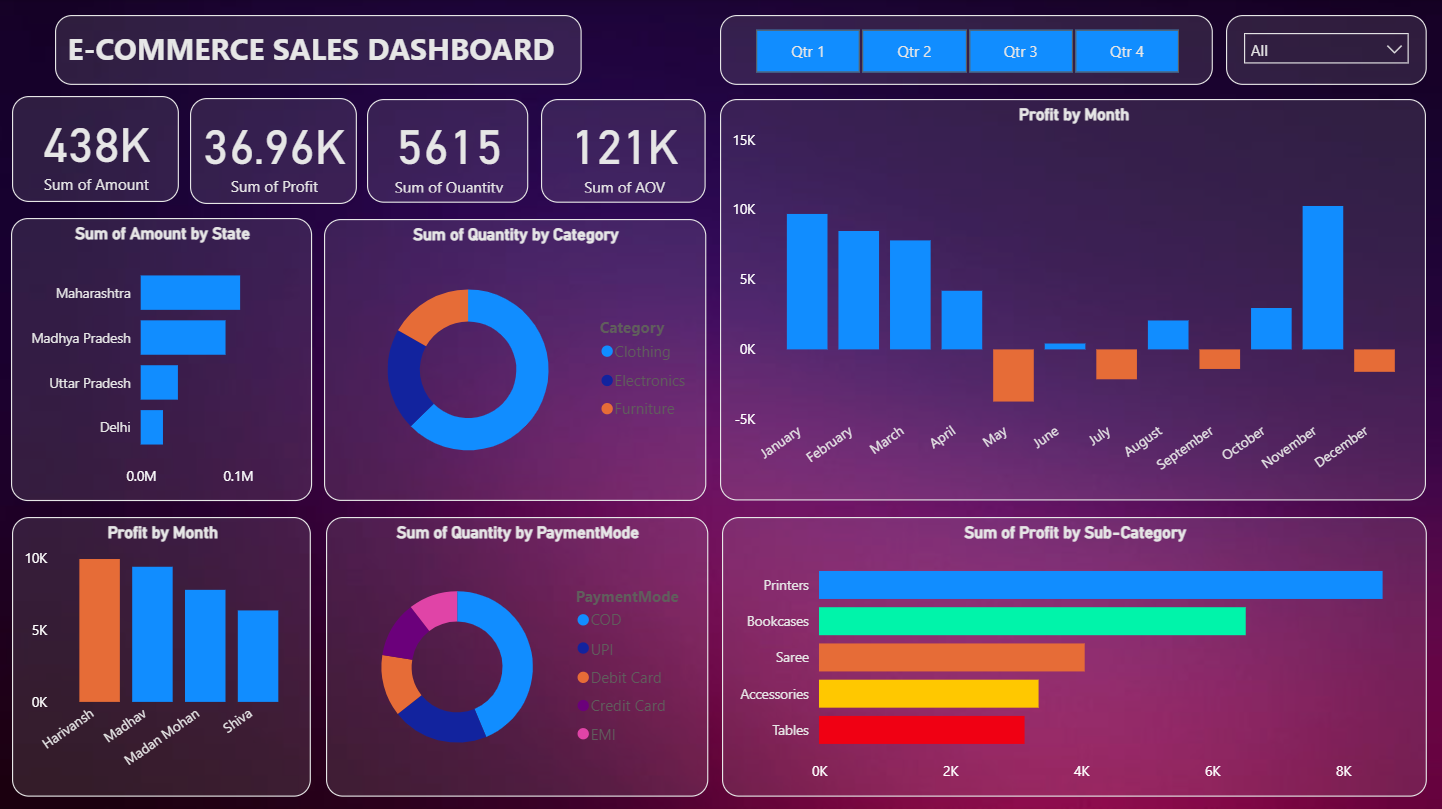

The dashboard page shown, as its layout file describes it:
{"tool":"powerbi","page":{"name":"Page 1","canvas":[1280,720],"ordinal":0},"visuals":[{"type":"textbox","box":[50.5,14.2,467.3,62.1],"z":0},{"type":"columnChart","title":"Profit by Month","fields":{"Y":["Details.Profit"],"Category":["Orders.Order Date.Variation.Date Hierarchy.Month"]},"box":[640.5,89,626.2,356],"z":1000},{"type":"barChart","fields":{"Category":["Details.Sub-Category"],"Y":["Details.Profit"]},"box":[642.1,459.3,624.6,247.9],"z":2000},{"type":"donutChart","fields":{"Category":["Details.Category"],"Y":["Details.Quantity"]},"box":[289.3,195.5,338.5,249.5],"z":3000},{"type":"donutChart","fields":{"Category":["Details.PaymentMode"],"Y":["Details.Quantity"]},"box":[290.9,459.3,338.5,247.9],"z":4000},{"type":"card","fields":{"Values":["Details.Amount"]},"box":[12.7,85.8,147.8,93.8],"z":5000},{"type":"card","fields":{"Values":["Details.Profit"]},"box":[170.1,87.4,147.8,93.8],"z":6000},{"type":"card","fields":{"Values":["Details.Quantity"]},"box":[327.4,89,143,92.2],"z":7000},{"type":"card","fields":{"Values":["Details.AOV"]},"box":[481.6,89,146.2,92.2],"z":8000},{"type":"barChart","fields":{"Category":["Orders.State"],"Y":["Details.Amount"]},"box":[11.1,193.9,267,251.1],"z":9000},{"type":"columnChart","title":"Profit by Month","fields":{"Category":["Orders.CustomerName"],"Y":["Details.Amount"]},"box":[12.7,459.3,265.4,247.9],"z":10000},{"type":"slicer","fields":{"Values":["Orders.Order Date.Variation.Date Hierarchy.Quarter"]},"box":[640.5,14.3,437.1,62],"z":11000},{"type":"slicer","fields":{"Values":["Orders.State"]},"box":[1088.7,14.3,178,62],"z":12000}]}

Visuals, with their boxes in screenshot pixels (x1, y1, x2, y2), scaled from the page's 1280x720 canvas onto the 1442x809 screenshot:
textbox: 57 16 583 86
"Profit by Month" columnChart: 722 100 1427 500
barChart - Details.Sub-Category x Details.Profit: 723 516 1427 795
donutChart - Details.Category x Details.Quantity: 326 220 707 500
donutChart - Details.PaymentMode x Details.Quantity: 328 516 709 795
card - Details.Amount: 14 96 181 202
card - Details.Profit: 192 98 358 204
card - Details.Quantity: 369 100 530 204
card - Details.AOV: 543 100 707 204
barChart - Orders.State x Details.Amount: 13 218 313 500
"Profit by Month" columnChart: 14 516 313 795
slicer - Orders.Order Date.Variation.Date Hierarchy.Quarter: 722 16 1214 86
slicer - Orders.State: 1226 16 1427 86
